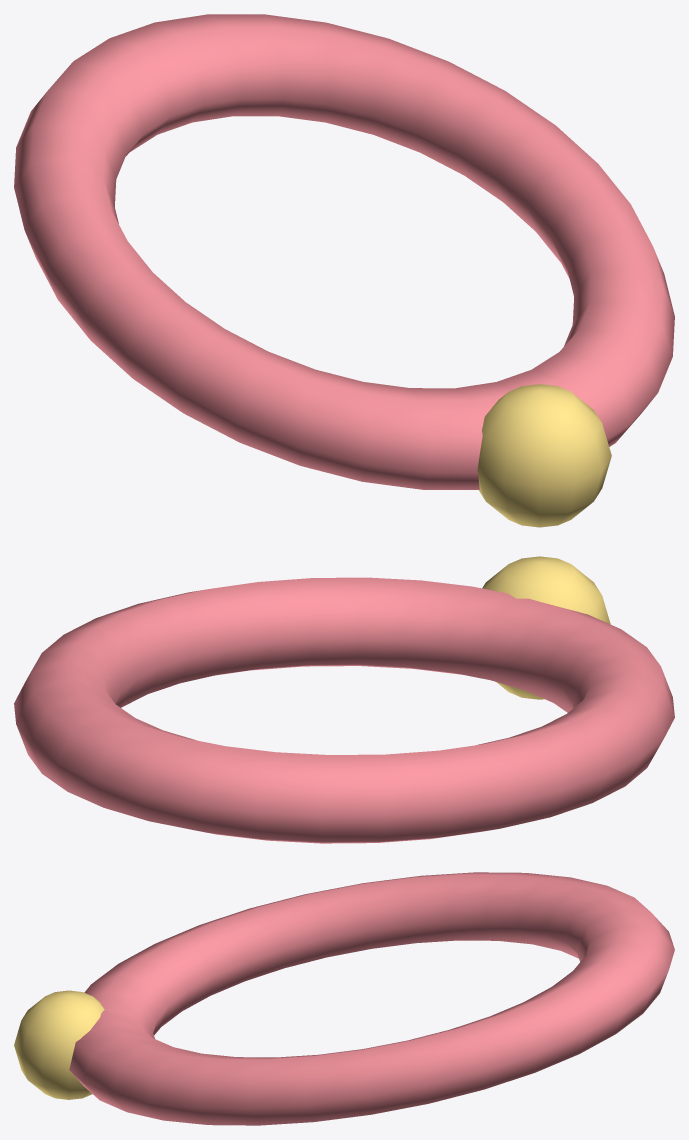
File: cat_collar.glb
The picture shows the model from 3 angles, top to bottom: view 1: azimuth 30°, elevation 25°; view 2: azimuth 150°, elevation 25°; view 3: azimuth 270°, elevation 25°; orthographic projection. The views are drawn at different scales.
Visible parts, largest first — view 1: cat_collar; view 2: cat_collar; view 3: cat_collar.
Part boxes in pixels (x1,y1,x2,y2): cat_collar: [14, 14, 674, 527]; cat_collar: [14, 556, 674, 843]; cat_collar: [14, 872, 674, 1125].
Bounding box in the file's own units: 0.118 × 0.0476 × 0.1684.
